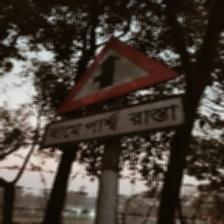Side-road-left: (43, 37, 186, 149)
